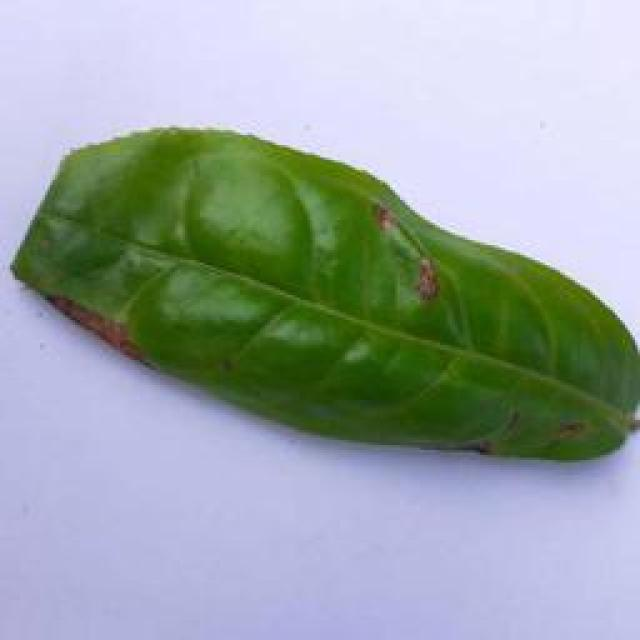Brown Blight: (20, 108, 640, 473)
